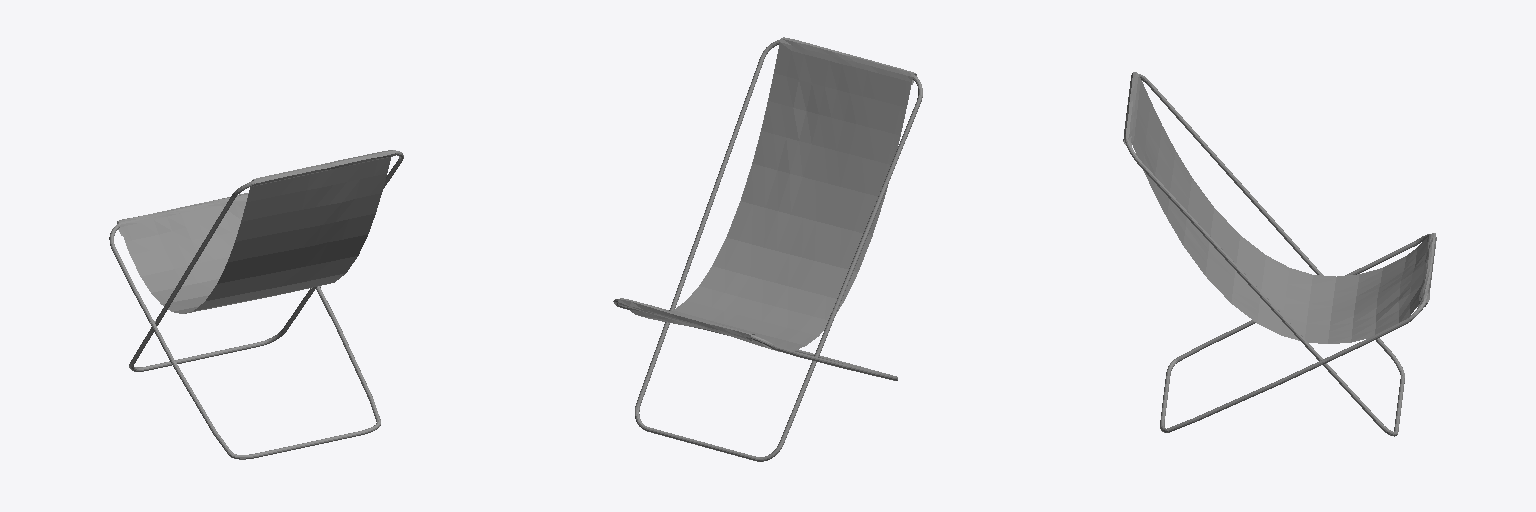
Rendered from Lounger.obj.
3 renders of one model, left to right at view 1: azimuth 30°, elevation 25°; view 2: azimuth 150°, elevation 25°; view 3: azimuth 270°, elevation 25°, orthographic.
Parts seen in each view (by area): view 1: Lounger_cloth, Lounger_frame; view 2: Lounger_cloth, Lounger_frame; view 3: Lounger_cloth, Lounger_frame.
Part boxes in pixels (bbox=[...]): Lounger_cloth: bbox=[117, 150, 395, 313]; Lounger_frame: bbox=[109, 151, 403, 459]; Lounger_cloth: bbox=[618, 37, 916, 351]; Lounger_frame: bbox=[613, 39, 922, 461]; Lounger_cloth: bbox=[1123, 72, 1436, 343]; Lounger_frame: bbox=[1125, 74, 1429, 436].
Bounding box in the file's own units: 87.89 × 140 × 135.